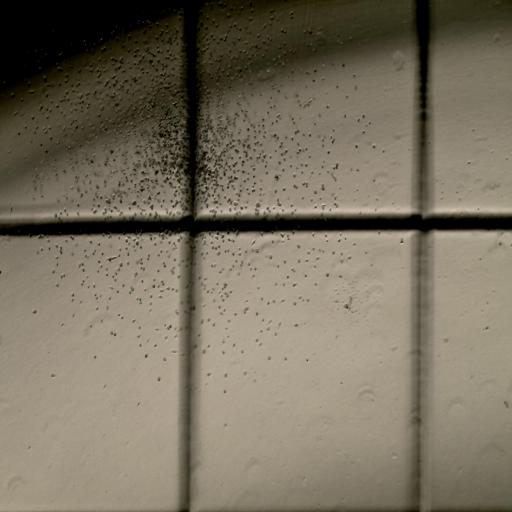CFU-GM: (21, 0, 360, 369)
